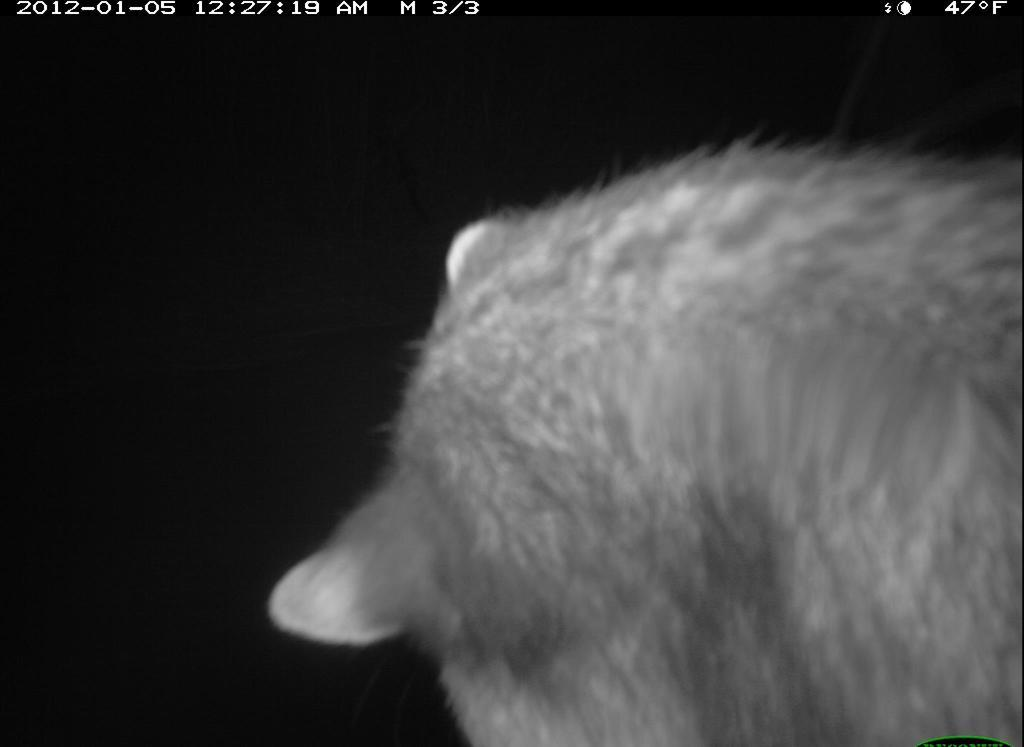raccoon: (265, 122, 1022, 747)
